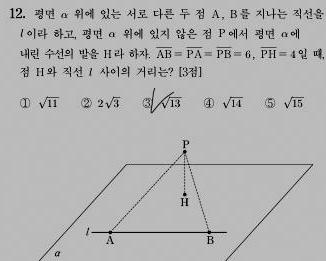choice: (140, 92, 158, 114)
not-choice: (18, 96, 32, 110), (202, 96, 215, 110), (80, 96, 93, 109), (264, 96, 277, 109)
